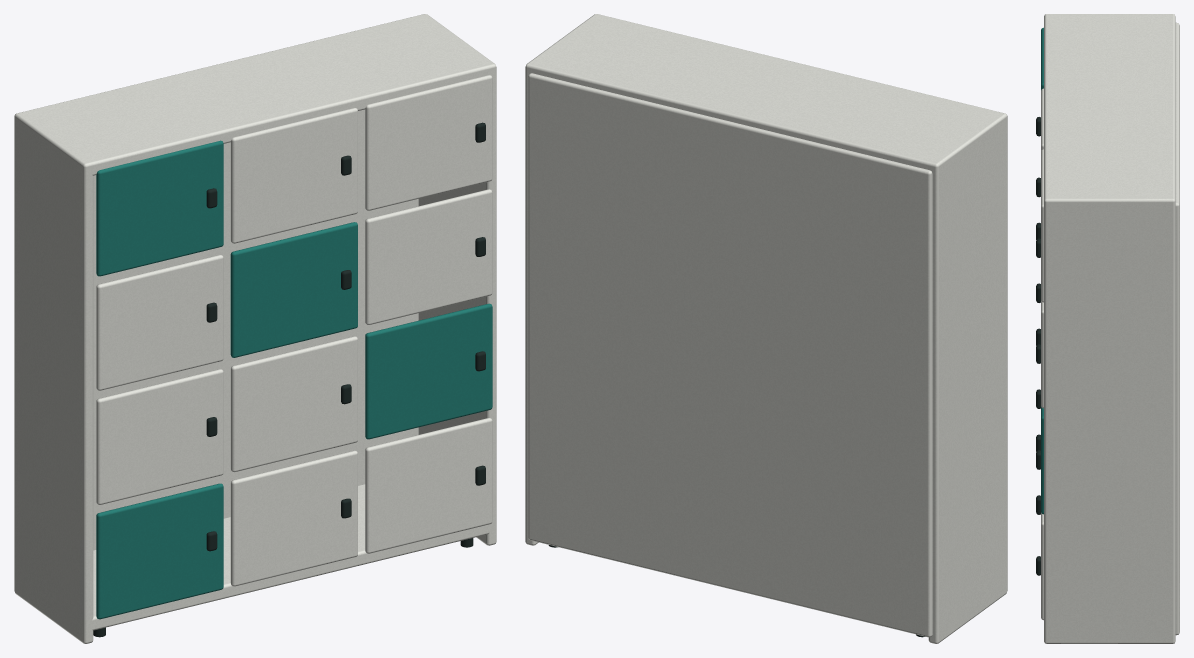
File: detail-locker-0.glb
3 renders of one model, left to right at view 1: azimuth 30°, elevation 25°; view 2: azimuth 150°, elevation 25°; view 3: azimuth 270°, elevation 25°, orthographic. The views are drawn at different scales.
Visible parts, largest first — view 1: door (×12), cabinet_side (×2), cabinet_cap (×2), cabinet_back; view 2: cabinet_back, cabinet_side (×2), cabinet_cap; view 3: cabinet_side (×2), cabinet_cap, cabinet_back, door (×4).
Boxes of the visible parts, bbox=[...] form: door (×12): bbox=[96, 75, 492, 619]; cabinet_side (×2): bbox=[14, 14, 496, 643]; cabinet_cap (×2): bbox=[22, 15, 489, 630]; cabinet_back: bbox=[93, 109, 418, 550]; cabinet_back: bbox=[528, 73, 932, 637]; cabinet_side (×2): bbox=[525, 14, 1007, 643]; cabinet_cap: bbox=[532, 15, 999, 170]; cabinet_side (×2): bbox=[1044, 14, 1175, 643]; cabinet_cap: bbox=[1044, 16, 1175, 198]; cabinet_back: bbox=[1175, 22, 1179, 635]; door (×4): bbox=[1041, 149, 1043, 620].
Bounding box in the file's own units: 1.85 × 2.05 × 0.6.
3 materials, 3 textured.
